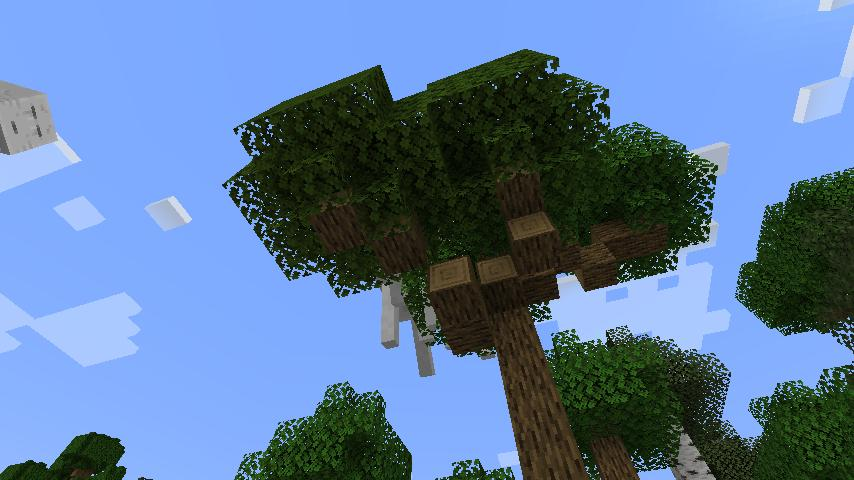ghast: (0, 80, 62, 160)
